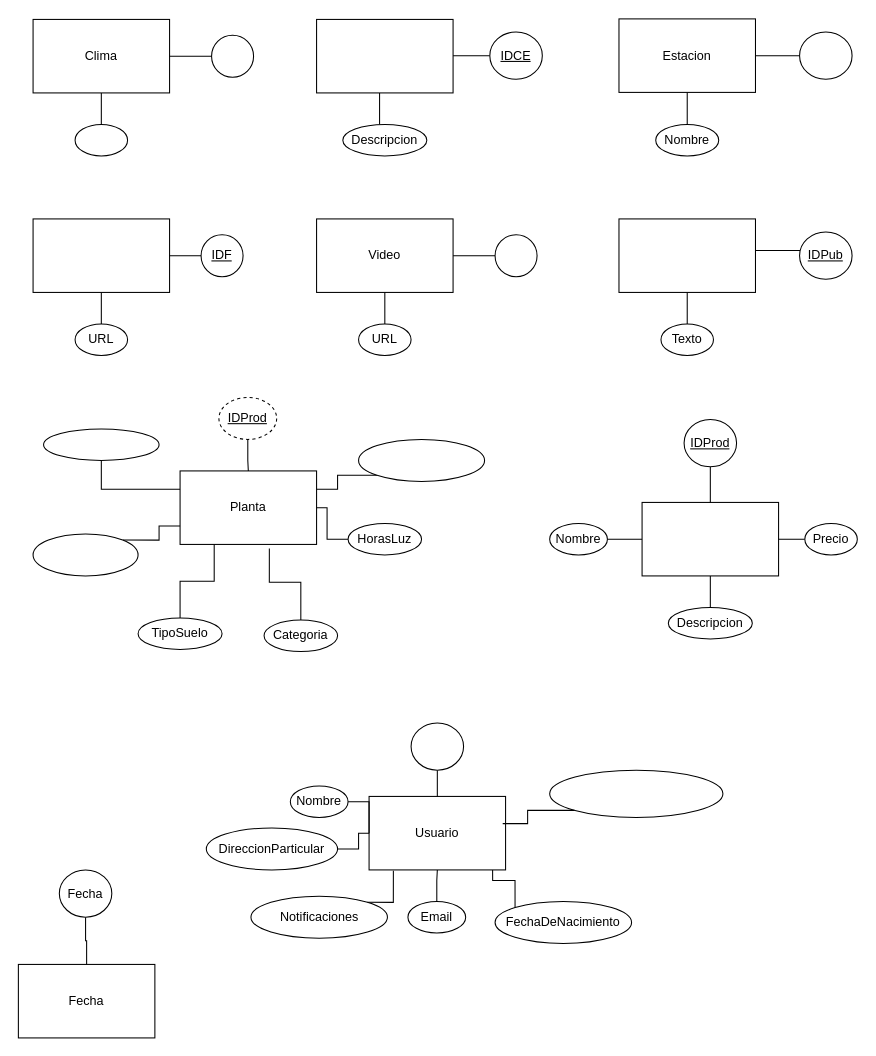
Some shapes in this 876 by 1056 pixel diagram are drawn without their labels. The shapes that lost their labels are listed below. From the top down, each one's centre as x and y in pixels, then its label:
the point at 232,55: IDC
the point at 384,55: Cuidados Especificos
the point at 825,55: IDE
the point at 101,139: Tipo
the point at 101,255: Foto
the point at 515,255: IDV
the point at 686,255: Publicacion
the point at 101,444: NombreCinetifico
the point at 421,459: MililitrosAgua
the point at 85,554: NombreComun
the point at 710,538: Producto
the point at 437,746: IDU
the point at 636,793: ConfiguracionDePrivacidad
